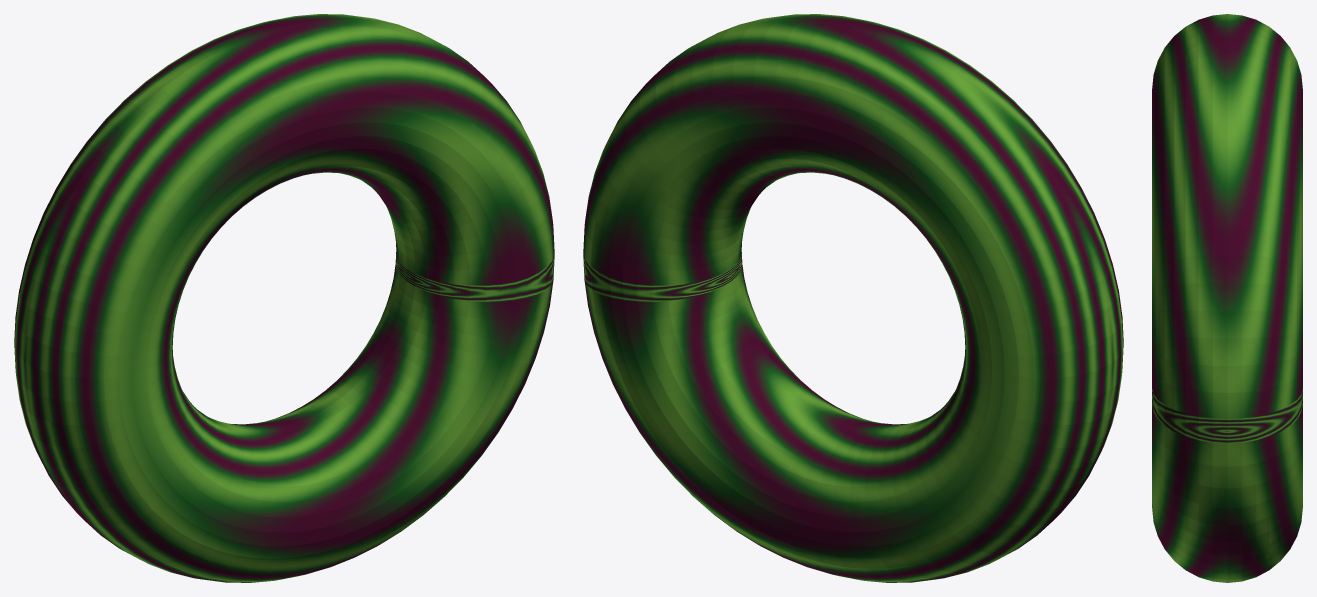
File: torus-forest-c1.glb
The picture shows the model from 3 angles, left to right: view 1: azimuth 30°, elevation 25°; view 2: azimuth 150°, elevation 25°; view 3: azimuth 270°, elevation 25°; orthographic projection. The views are drawn at different scales.
Visible parts, largest first — view 1: world; view 2: world; view 3: world.
Part boxes in pixels (box(x1,y1,x2,y2)): world: box(14, 14, 554, 582); world: box(583, 14, 1123, 582); world: box(1152, 14, 1302, 582).
Size of the model in its own units: 1.36 by 1.36 by 0.36.
Materials: 1 (1 with a texture image).
